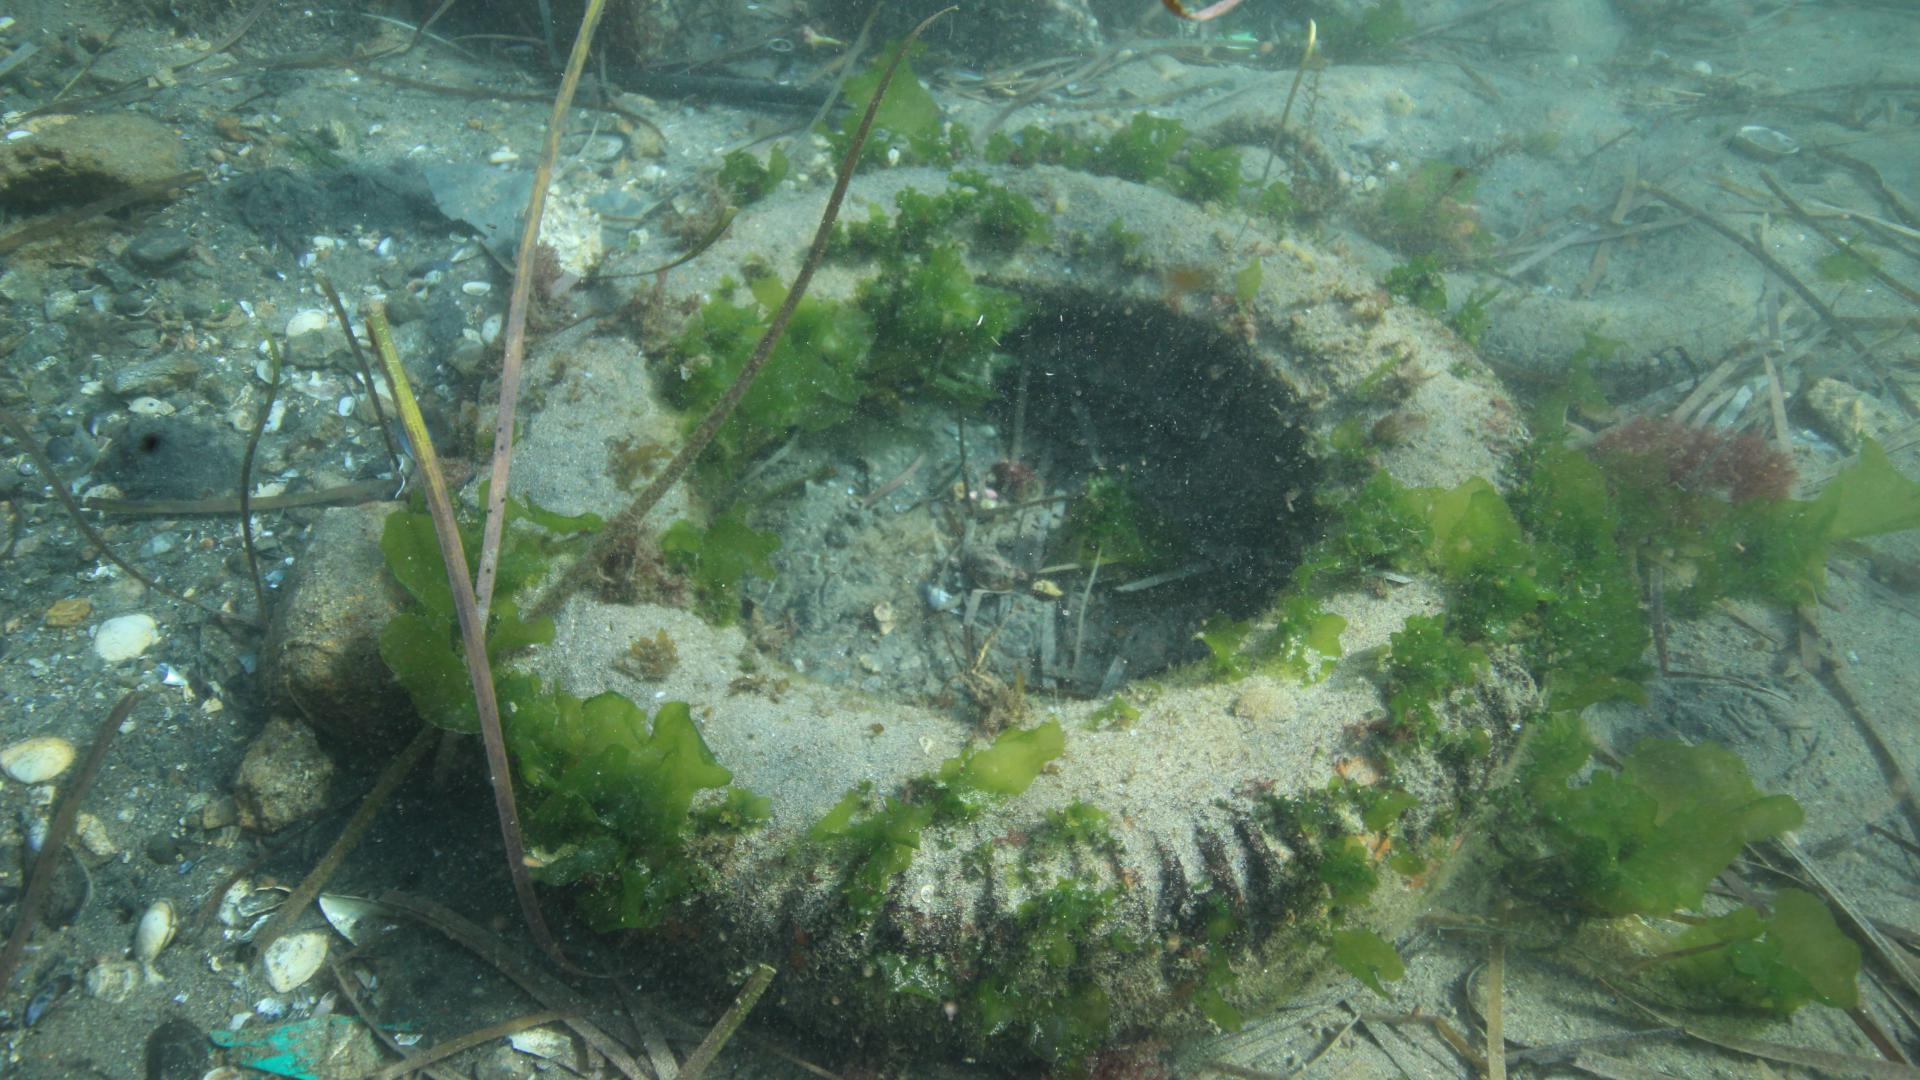rope: (1182, 105, 1354, 203)
tire: (451, 158, 1582, 1072)
